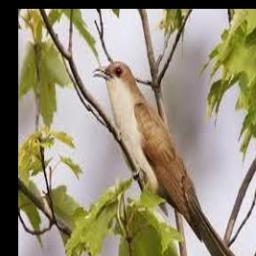Cuckoo: (92, 61, 255, 256)
